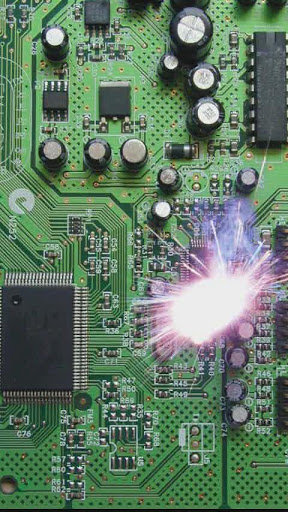capacitor: (168, 5, 215, 58), (184, 94, 233, 135), (183, 61, 233, 99), (34, 128, 75, 173), (116, 130, 154, 171), (79, 132, 114, 169), (38, 22, 74, 54), (235, 161, 265, 193), (149, 196, 177, 224)
